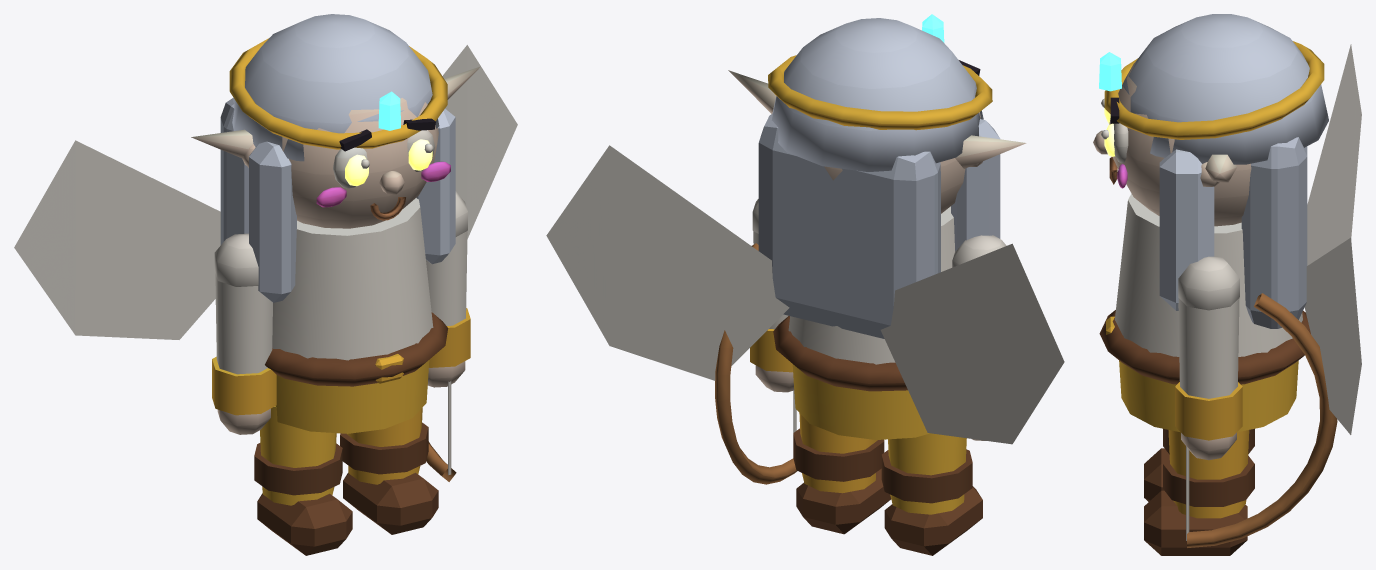
Rendered from hero_seren.glb.
3 renders of one model, left to right at view 1: azimuth 30°, elevation 25°; view 2: azimuth 150°, elevation 25°; view 3: azimuth 270°, elevation 25°, orthographic. The views are drawn at different scales.
Parts seen in each view (by area): view 1: body_t0_palette, arml_t0_palette, legl_t0_palette, legr_t0_palette, armr_t0_palette, body_t0_glow_gold, body_t0_crystal; view 2: body_t0_palette, legl_t0_palette, legr_t0_palette, armr_t0_palette, arml_t0_palette; view 3: body_t0_palette, armr_t0_palette, legr_t0_palette, legl_t0_palette, body_t0_crystal.
Boxes of the visible parts, x1,y1,x2,y2 form: body_t0_palette: (14,14,517,433); arml_t0_palette: (212,233,276,434); legl_t0_palette: (254,406,352,555); legr_t0_palette: (340,407,438,534); armr_t0_palette: (426,191,470,481); body_t0_glow_gold: (345,139,432,186); body_t0_crystal: (378,91,400,130); body_t0_palette: (546,18,1064,444); legl_t0_palette: (881,433,982,555); legr_t0_palette: (793,413,890,534); armr_t0_palette: (715,199,797,484); arml_t0_palette: (952,235,1006,440); body_t0_palette: (1093,14,1361,434); armr_t0_palette: (1175,256,1337,547); legr_t0_palette: (1144,430,1254,555); legl_t0_palette: (1144,428,1254,501); body_t0_crystal: (1099,52,1121,91).
Size of the model in its own units: 0.54 by 0.508 by 0.246.
